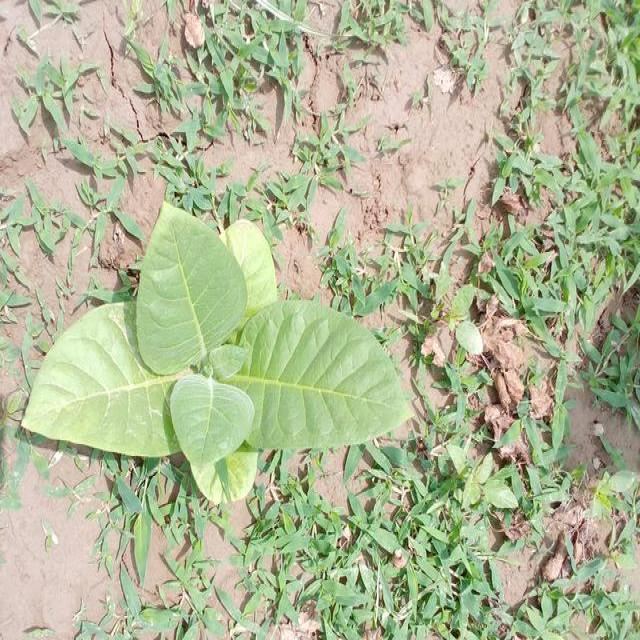crop: (38, 212, 416, 473)
